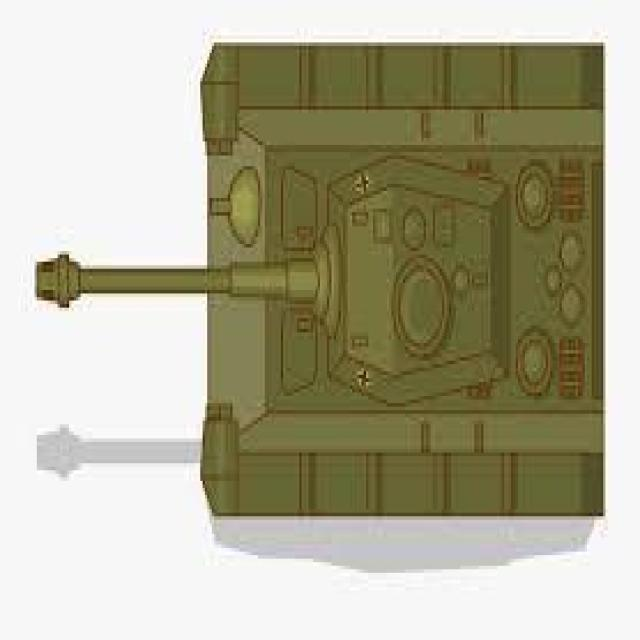Tanks: (184, 27, 610, 532)
